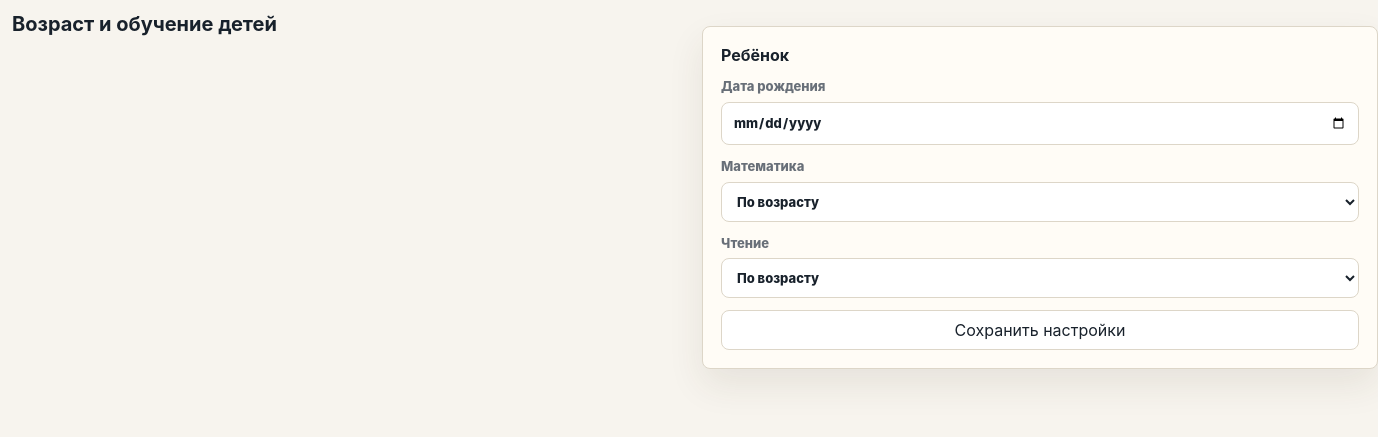
Test: saves the birth date entered by a native date input
In the date field labelled "Дата рождения": [1040, 123] box [721,102,1359,145], type "2018-09-26"
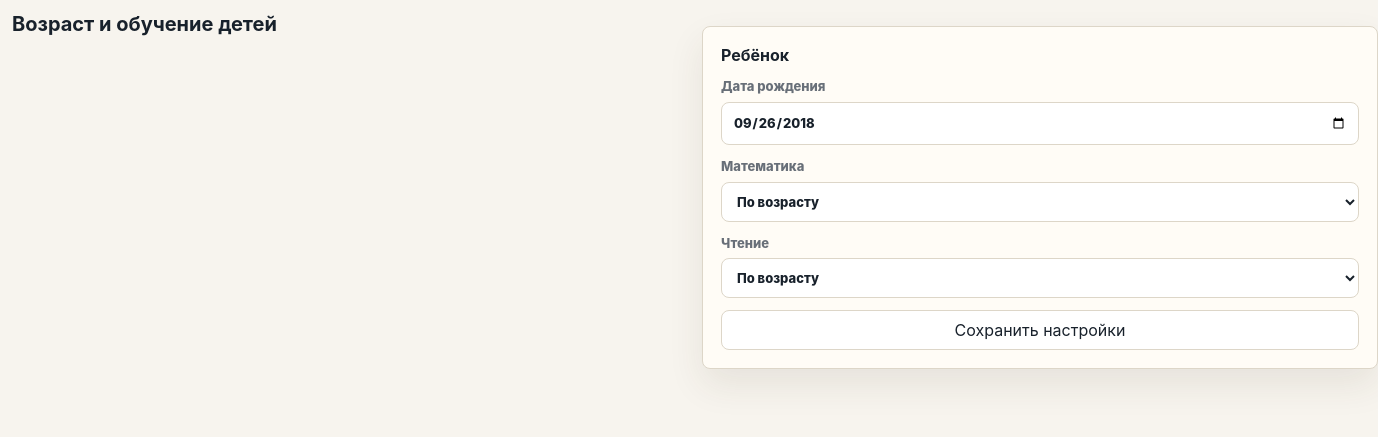
Click the button "Сохранить настройки": [1040, 330] box [721,310,1359,350]
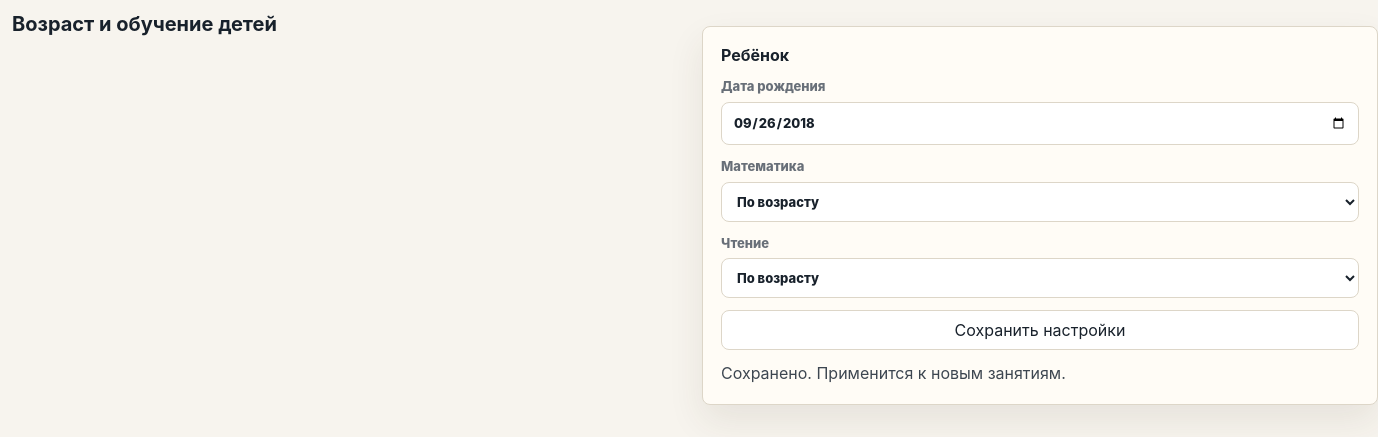
Check: the message shows "Сохранено", box [721,363,1066,383]
